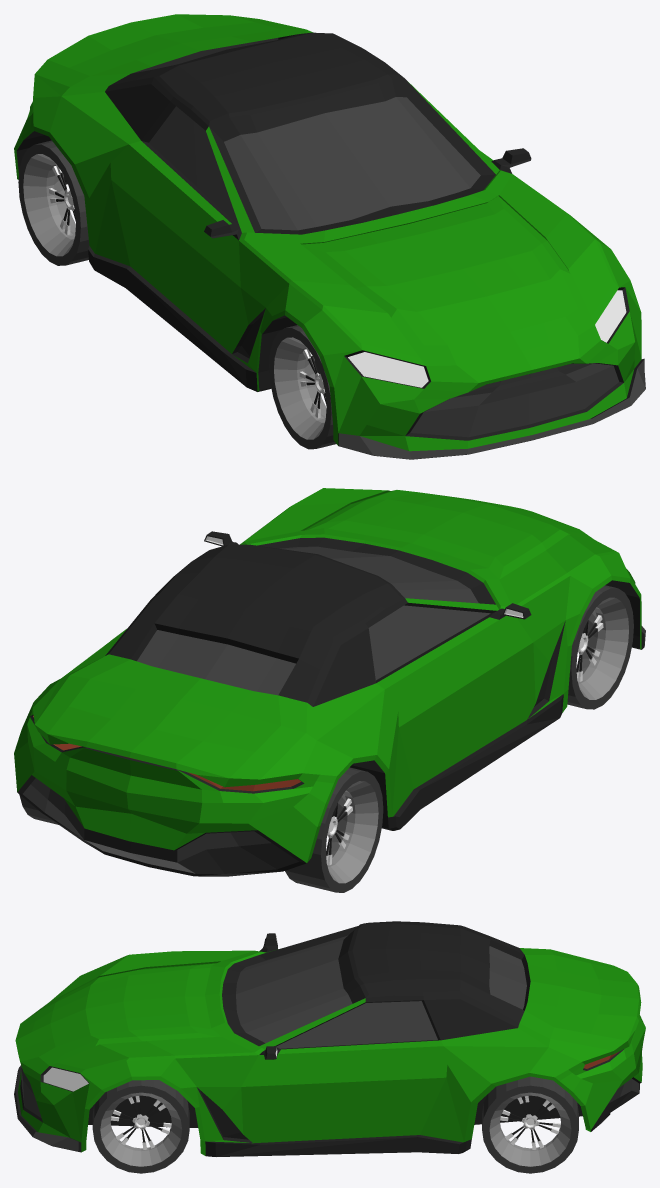
The model's file is astonmartinv12vantage(2025).fbx.
3 views of the same model, one above another, from view 1: azimuth 30°, elevation 25°; view 2: azimuth 150°, elevation 25°; view 3: azimuth 270°, elevation 25° (orthographic). The views are drawn at different scales.
Visible parts, largest first — view 1: GreenBody, BackRight, FrontRight; view 2: GreenBody, BackRight, FrontRight; view 3: GreenBody, BackLeft, FrontLeft.
Boxes of the visible parts, <box> form: GreenBody: <box>14,14,645,459</box>; BackRight: <box>18,140,89,265</box>; FrontRight: <box>269,325,336,449</box>; GreenBody: <box>14,488,645,876</box>; BackRight: <box>285,767,383,892</box>; FrontRight: <box>567,585,633,709</box>; GreenBody: <box>14,921,645,1156</box>; BackLeft: <box>482,1076,578,1173</box>; FrontLeft: <box>92,1080,189,1173</box>.
Size of the model in its own units: 1.97 by 4.32 by 1.27.
